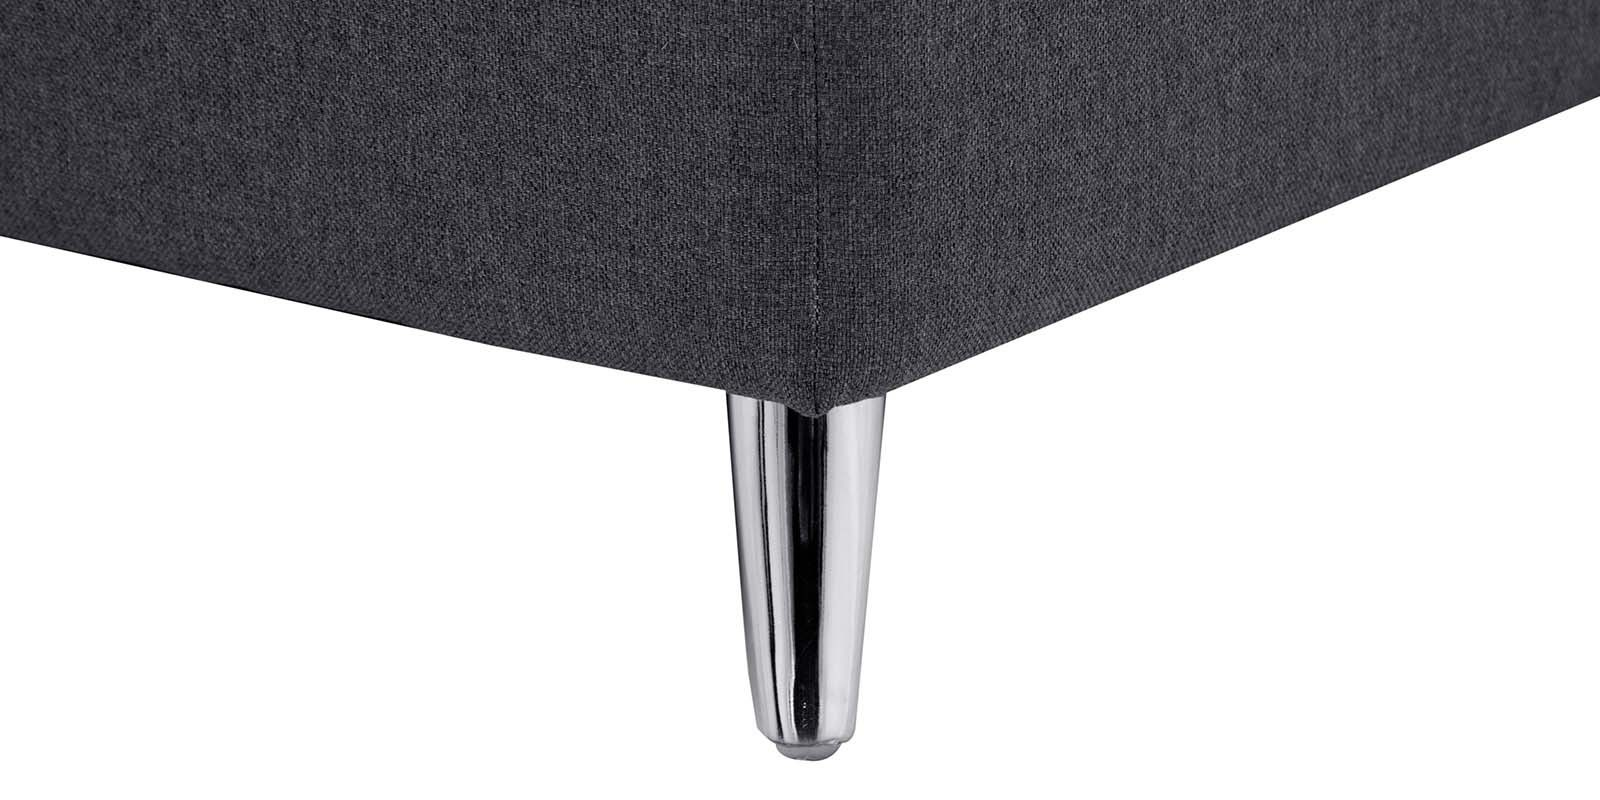Iowa Three Seater Sofa in Steel Grey Colour by Furnitech: (8, 1, 1599, 766)
